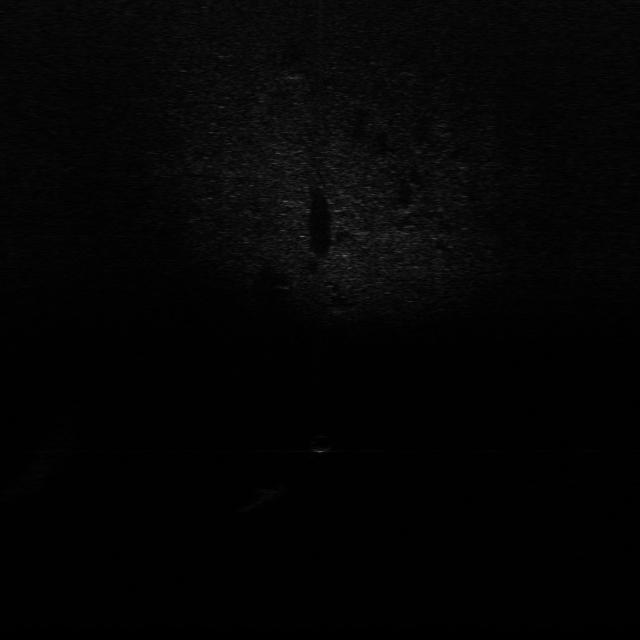ball: (304, 431, 337, 456)
square cage: (254, 479, 294, 506)
